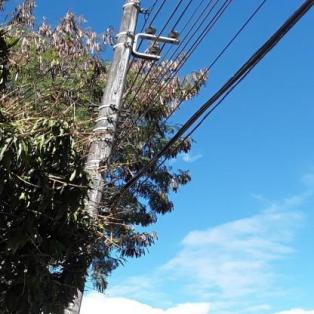Poste: (0, 1, 159, 314)
